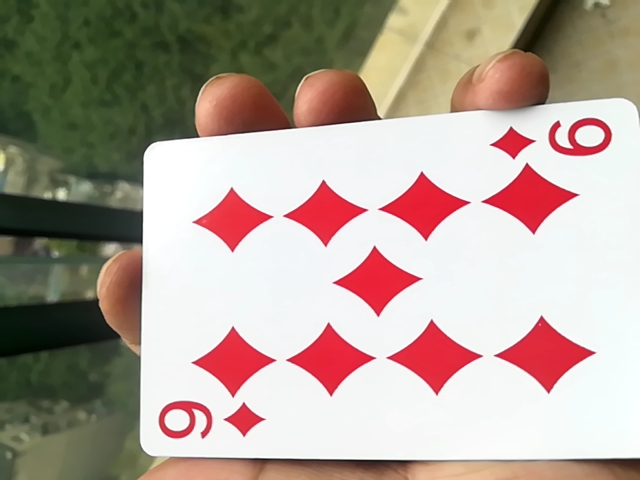fk 9: (126, 107, 639, 474)
